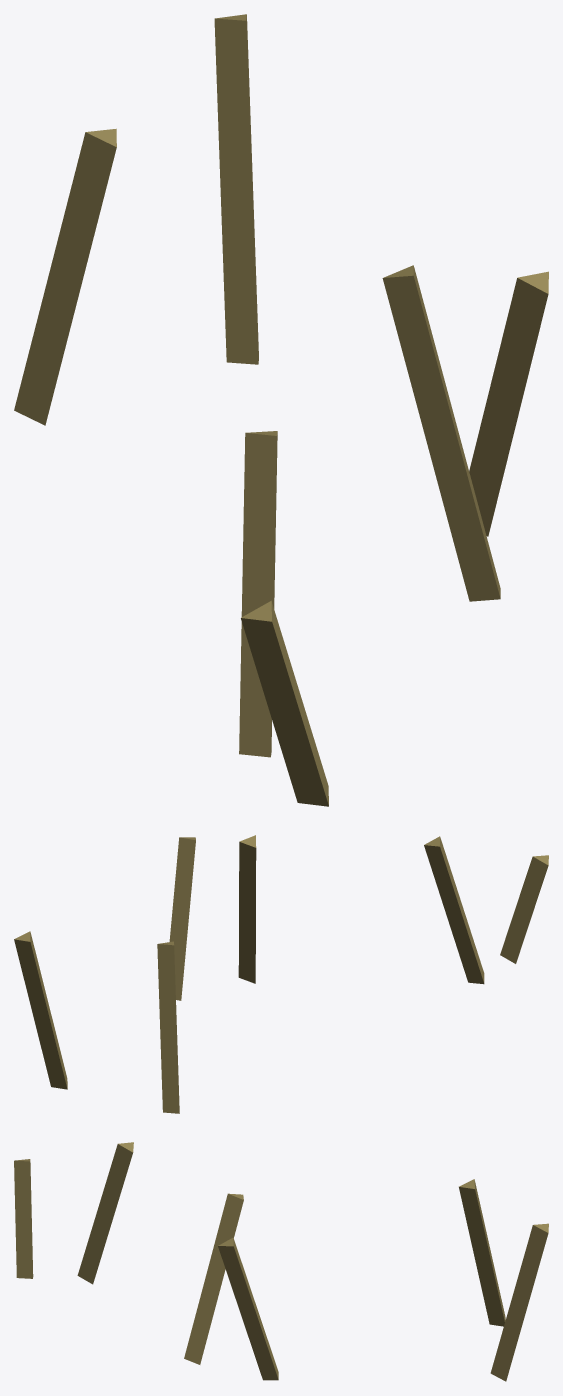
The model's file is FlaxPicked.fbx.
3 views of the same model, one above another, from view 1: azimuth 30°, elevation 25°; view 2: azimuth 150°, elevation 25°; view 3: azimuth 270°, elevation 25° (orthographic). The views are drawn at different scales.
Parts seen in each view (by area): view 1: FlaxPicked; view 2: FlaxPicked; view 3: FlaxPicked.
Part boxes in pixels (x1,y1,x2,y2): FlaxPicked: (14, 14, 548, 806); FlaxPicked: (14, 835, 548, 1113); FlaxPicked: (14, 1142, 548, 1381).
Size of the model in its own units: 0.3334 by 0.1957 by 0.589.
